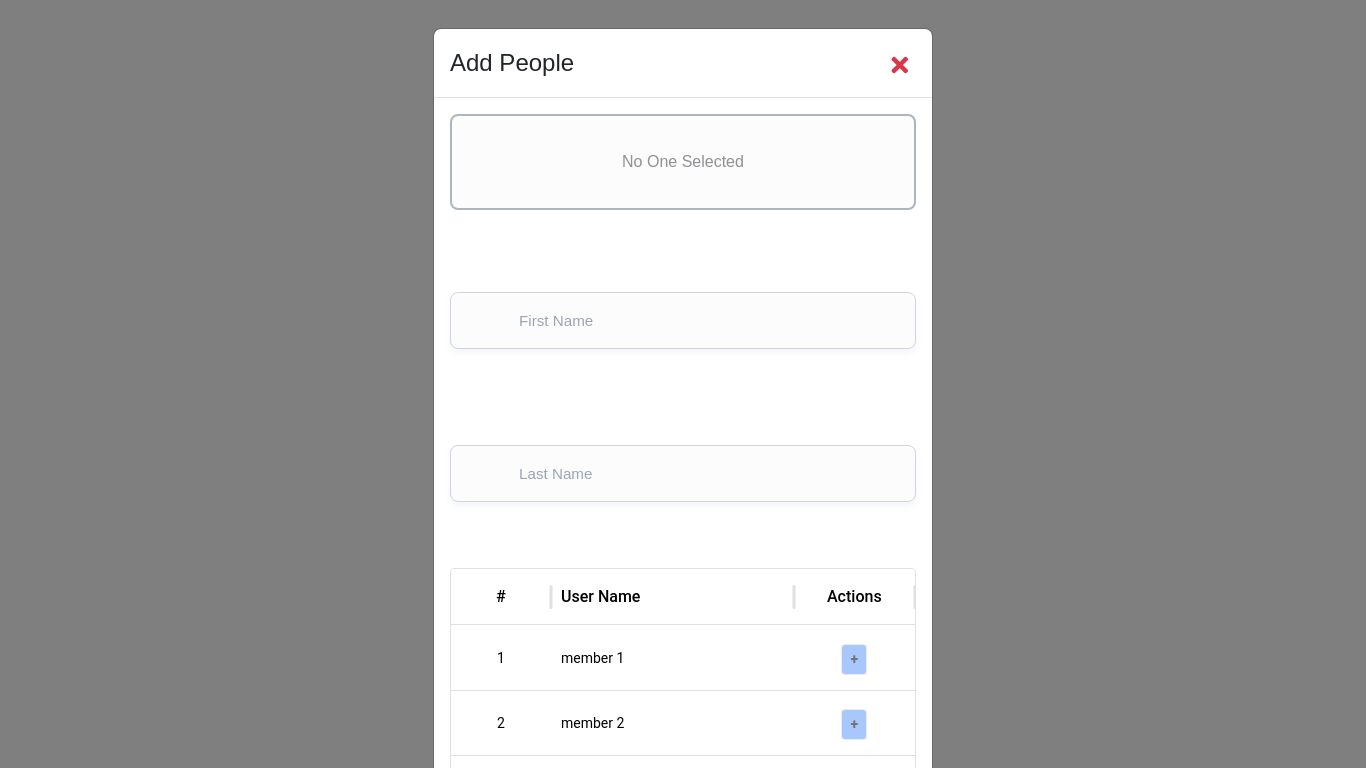
Test: Organisation Tags Page › clears first name search input
Click the search field with placeholder "First Name" at [673, 320], box [471,312,875,329]
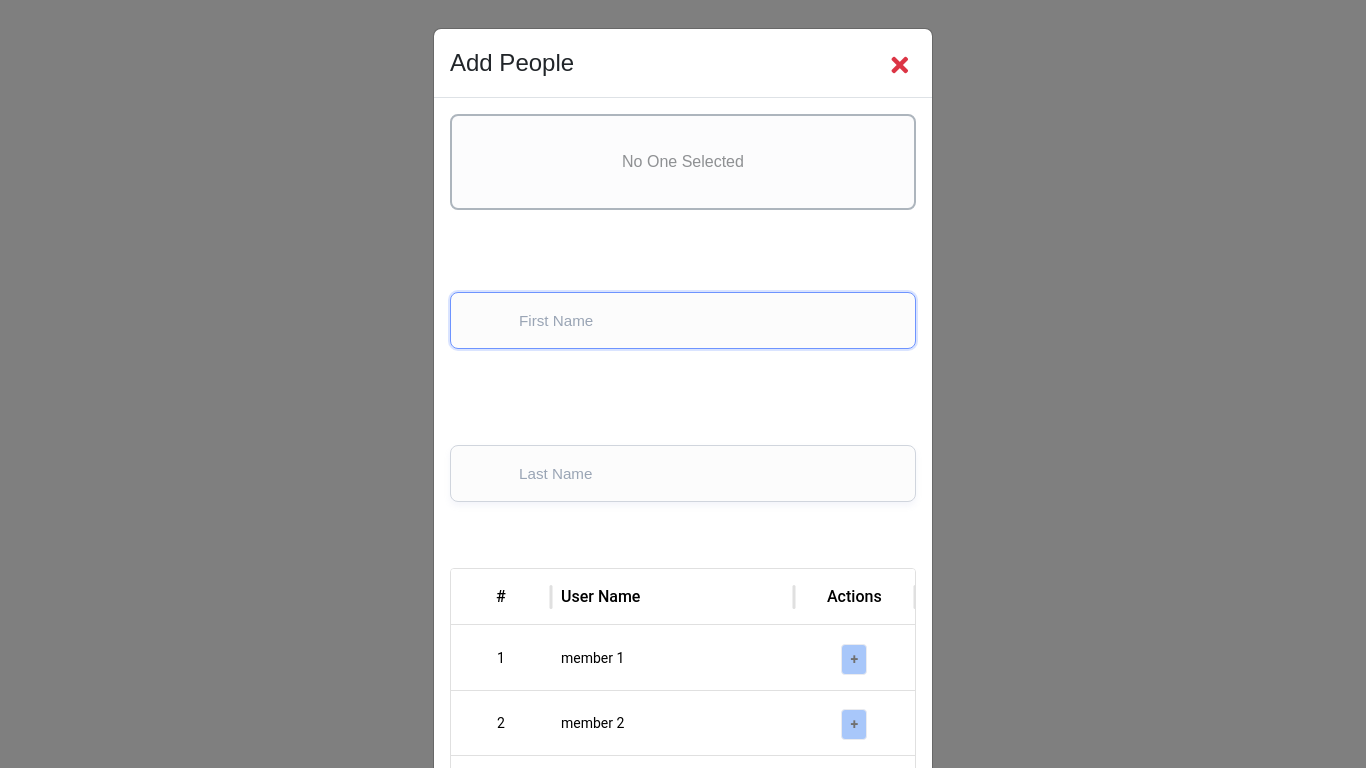
Type keys "usersToAssignTo"
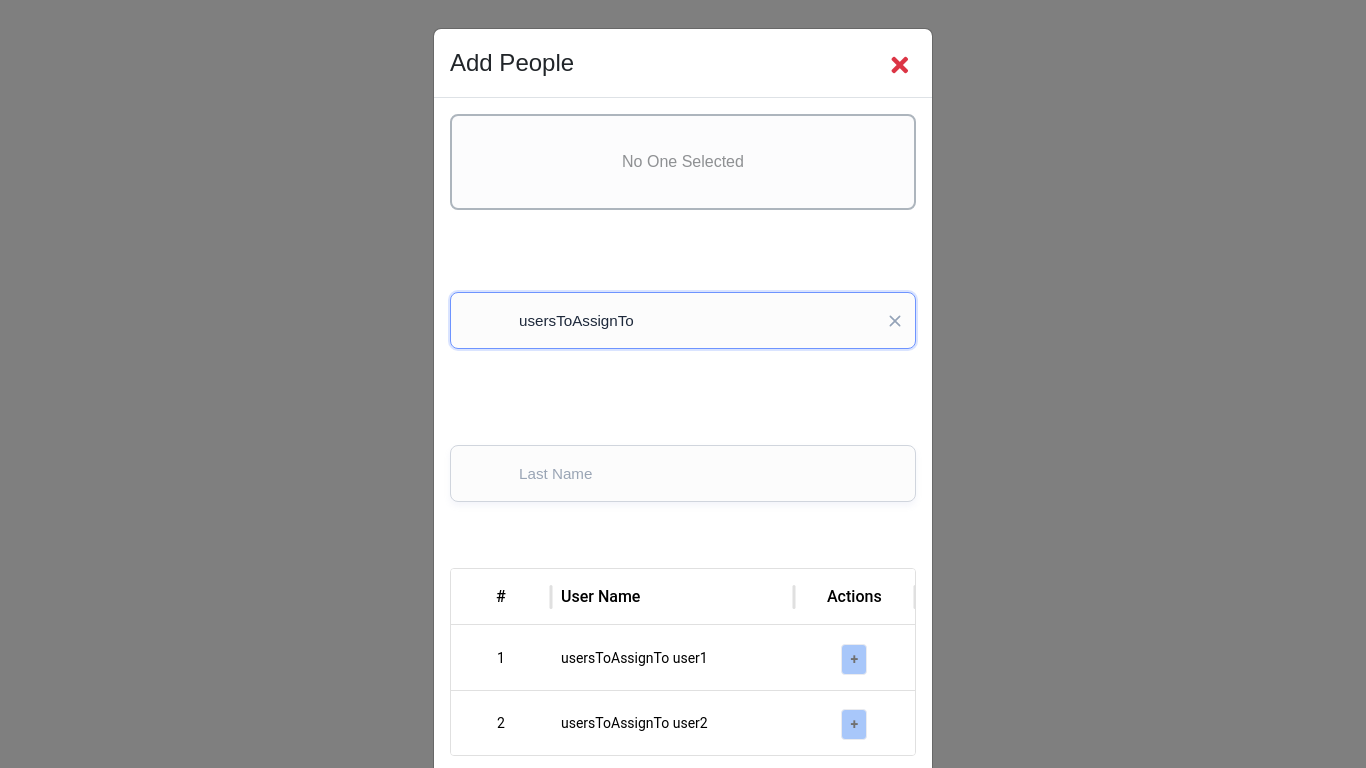
Check: the search field with placeholder "First Name" holds "usersToAssignTo", box [471,312,875,329]
# clear button exists because query succeeded
Click the button with test id "clearFirstNameSearch" at [895, 320], box [882,308,907,333]
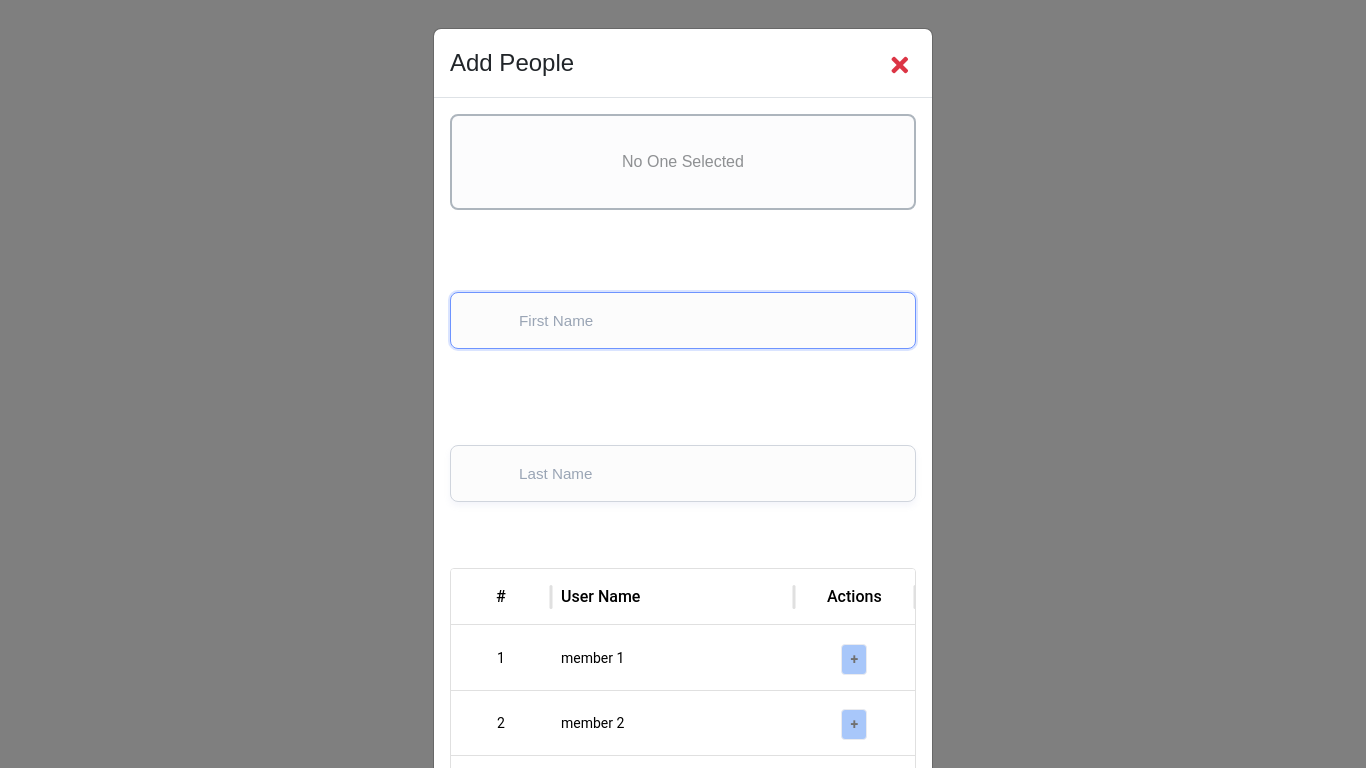
Check: the search field with placeholder "First Name" is empty, box [471,312,875,329]
